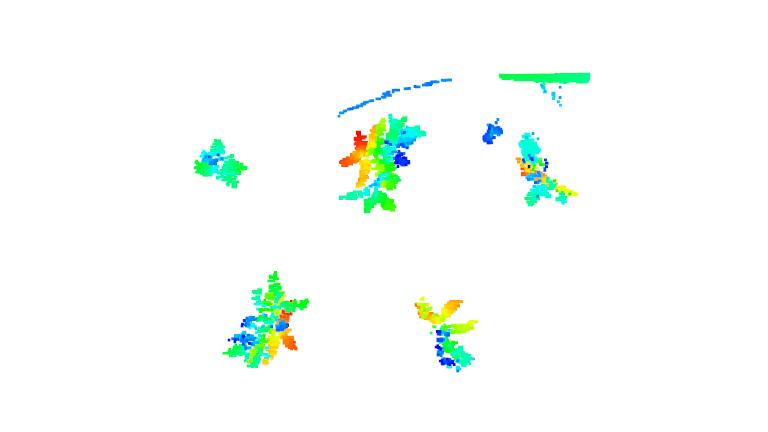chickpea: (339, 113, 428, 217), (220, 269, 310, 369), (414, 294, 480, 375), (515, 130, 578, 210), (193, 138, 251, 189)
